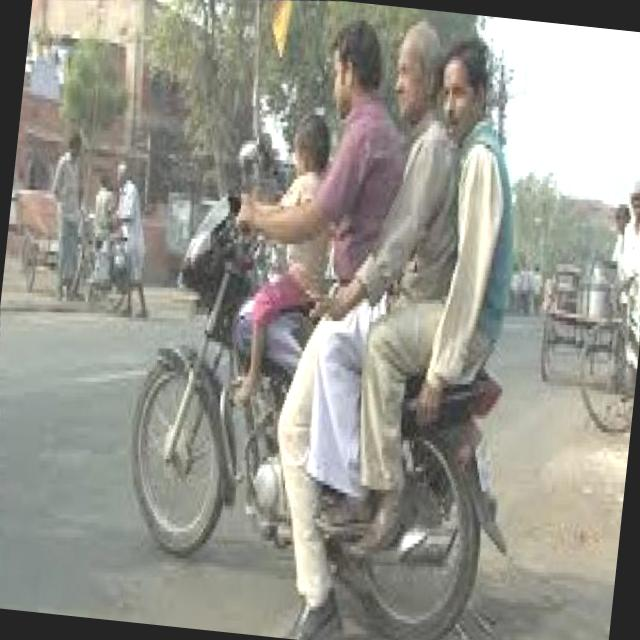motorcycle: (110, 174, 546, 640)
person: (370, 29, 544, 446), (260, 11, 419, 394), (343, 13, 486, 362), (241, 96, 354, 348)
rider_region: (110, 0, 555, 640)
